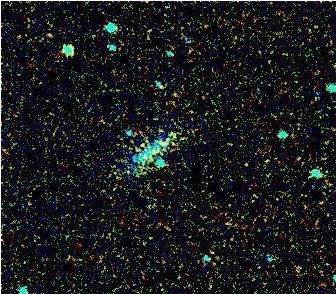star: (34, 19, 64, 49)
